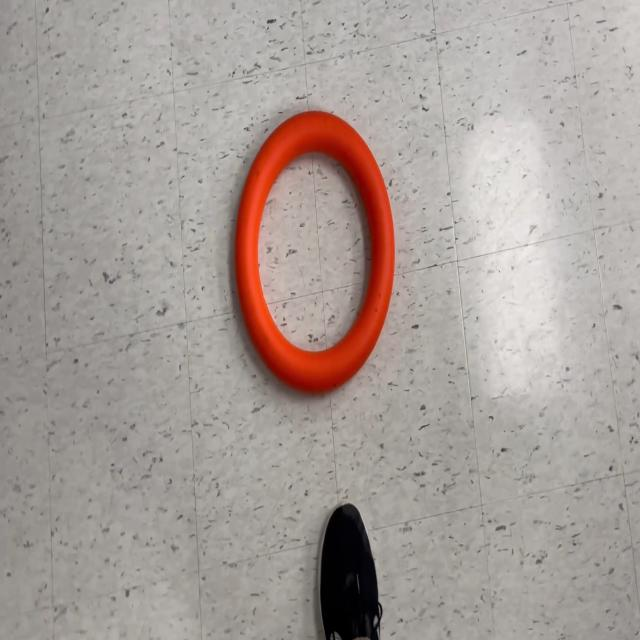note: (233, 110, 396, 398)
